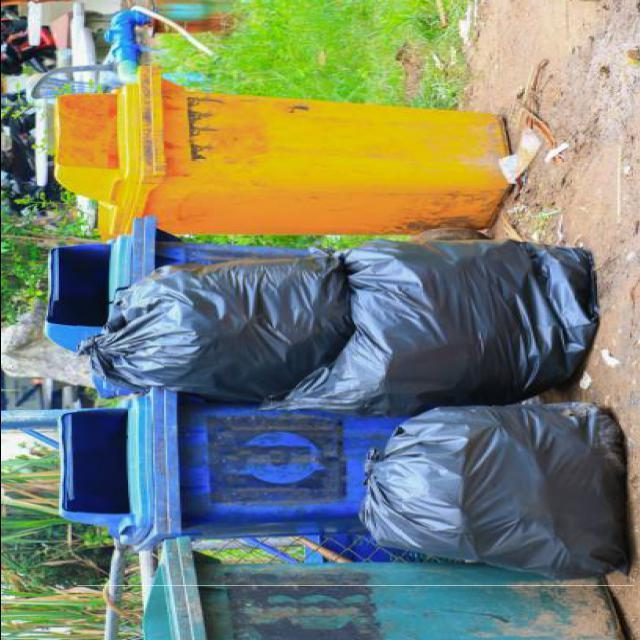Trashbag: (329, 408, 632, 579), (52, 245, 331, 425), (322, 220, 595, 399)
